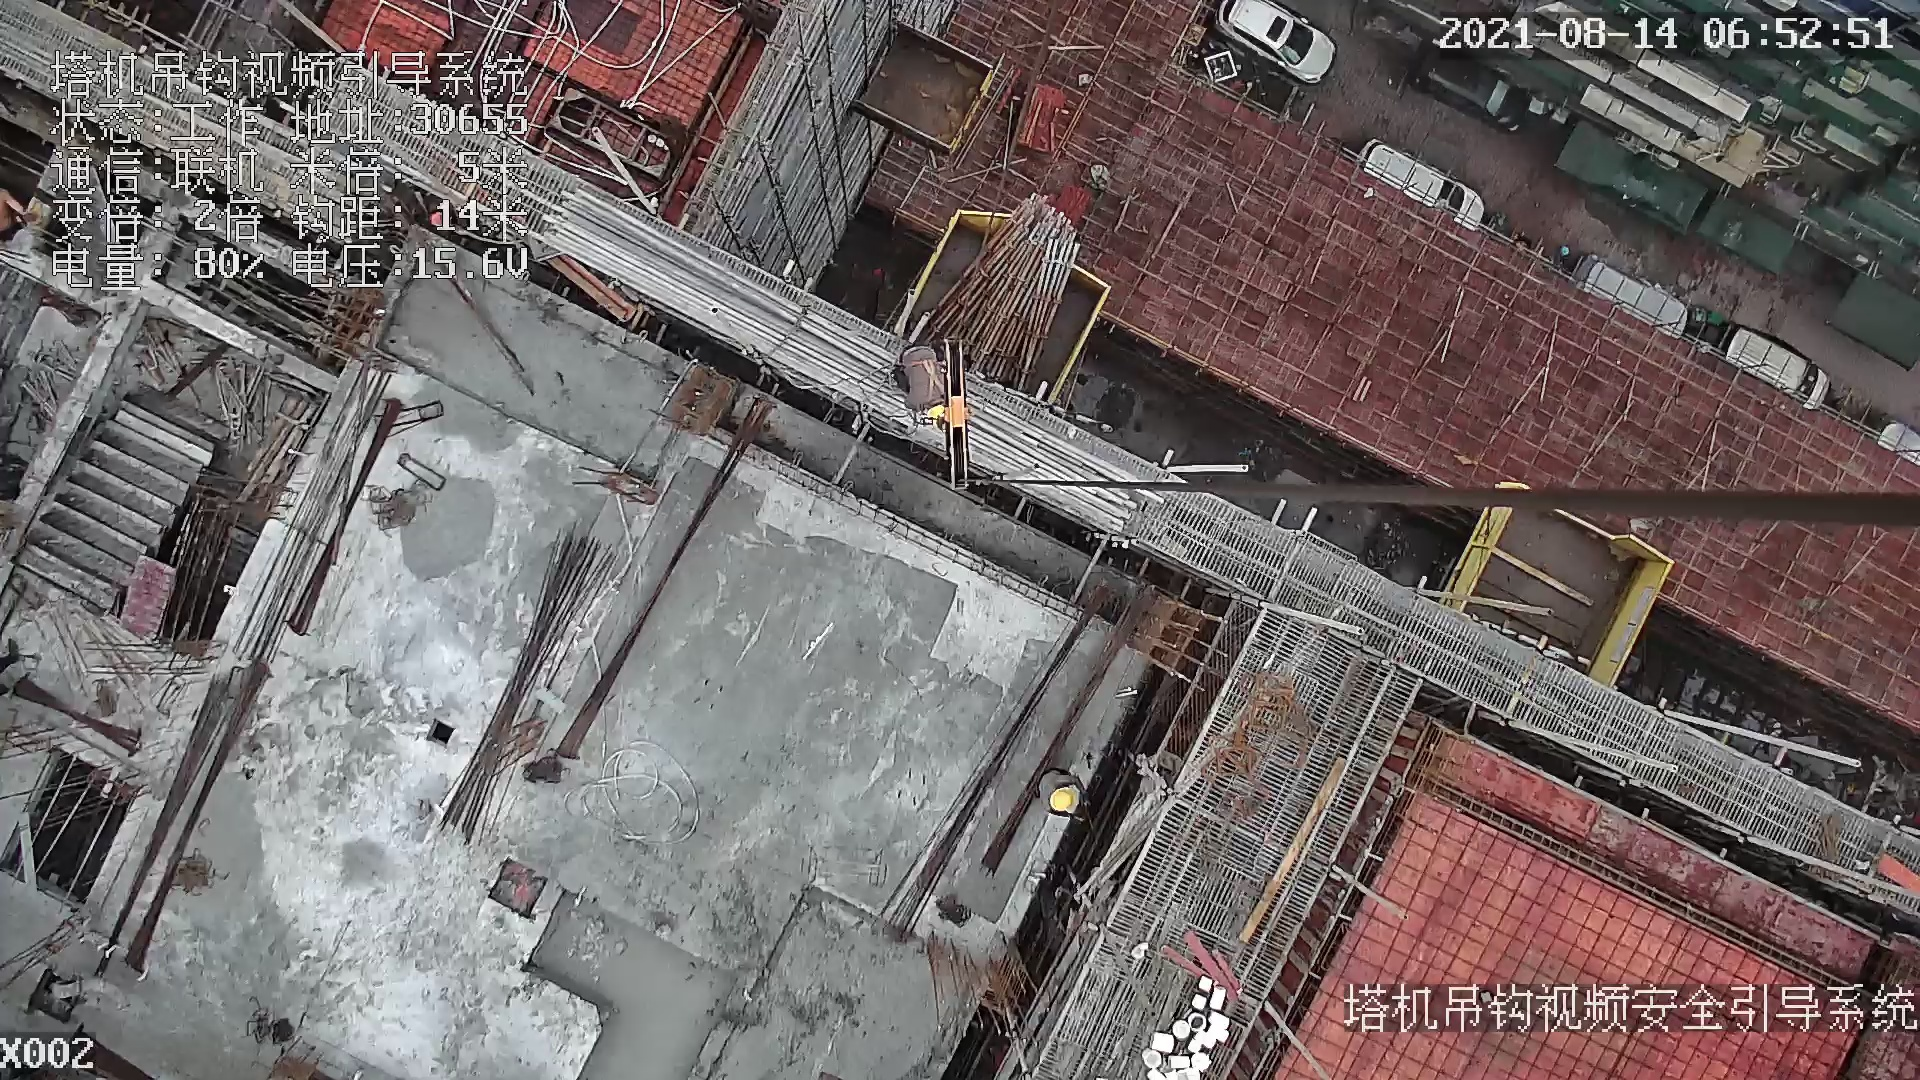helmet: (1048, 788, 1075, 813)
hook: (937, 341, 987, 497)
person: (886, 351, 950, 422), (1035, 760, 1090, 818)
rebar: (529, 185, 1162, 529), (435, 533, 616, 833)
scaffold: (915, 195, 1079, 392)
